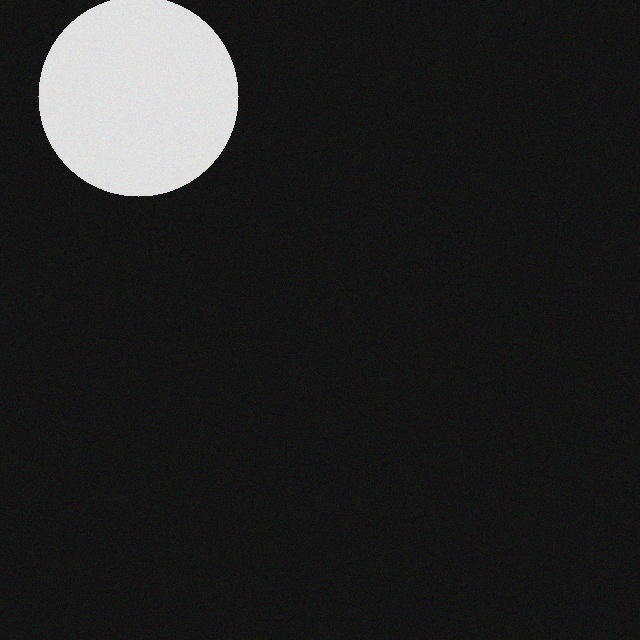circle: (27, 0, 227, 200)
